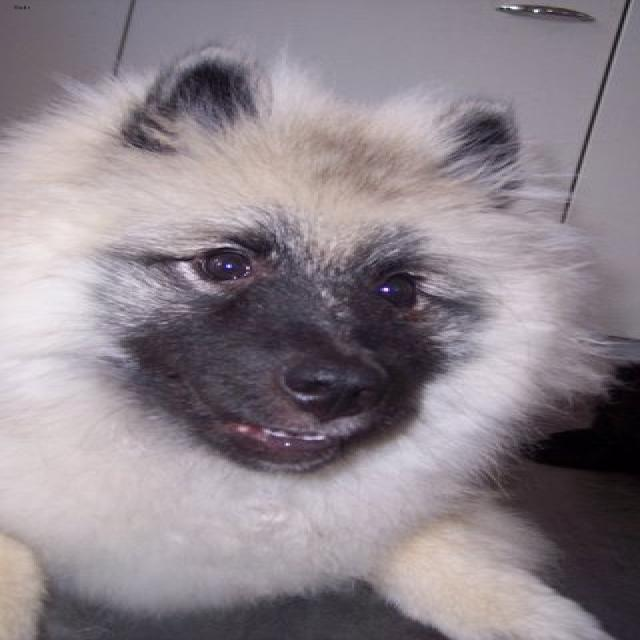dog-keeshond: (2, 25, 636, 637)
